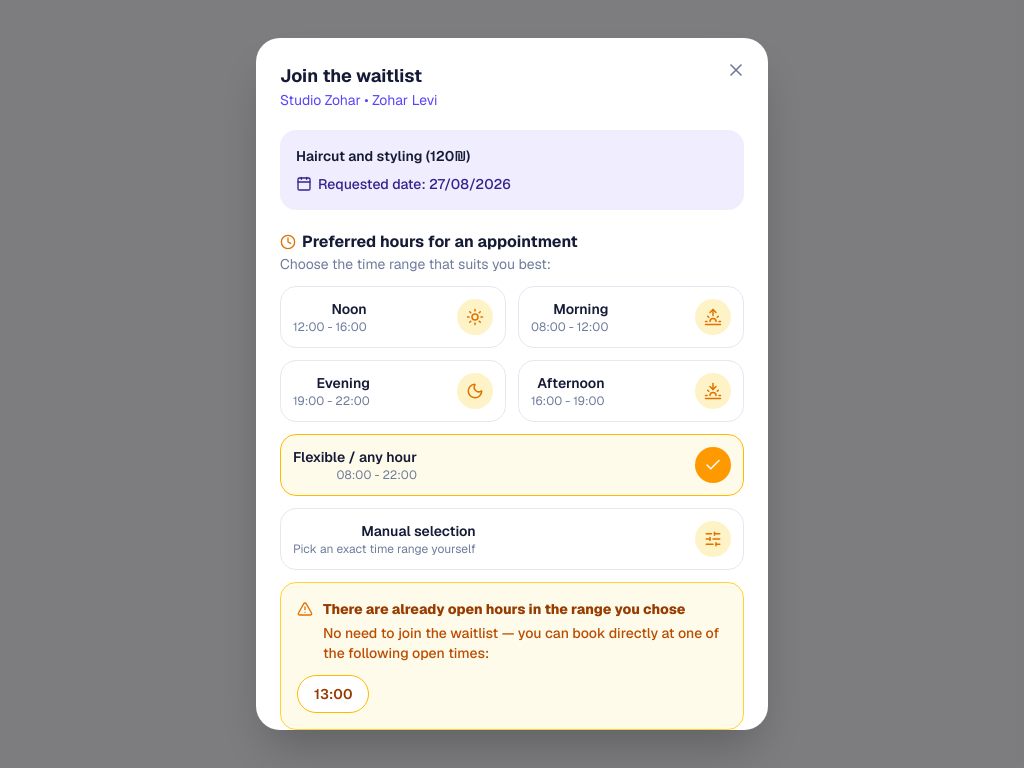
waitlist join modal › does not warn when the requested range has no bookable time in it
The image size is (1024, 768).
Click the button "Morning 08:00 - 12:00" at (631, 317), box left=518, top=286, right=744, bottom=348
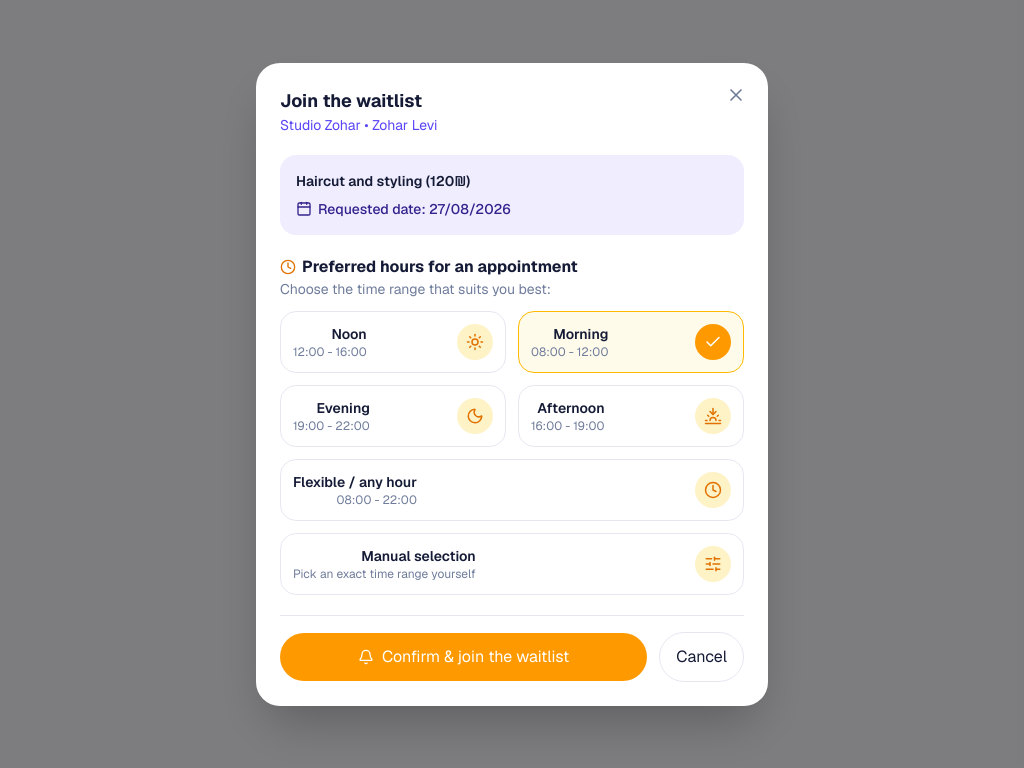
expect the text "There are already open hours in the range you chose" is gone: met
expect the button "Confirm & join the waitlist" is enabled: met, box left=280, top=632, right=647, bottom=680
